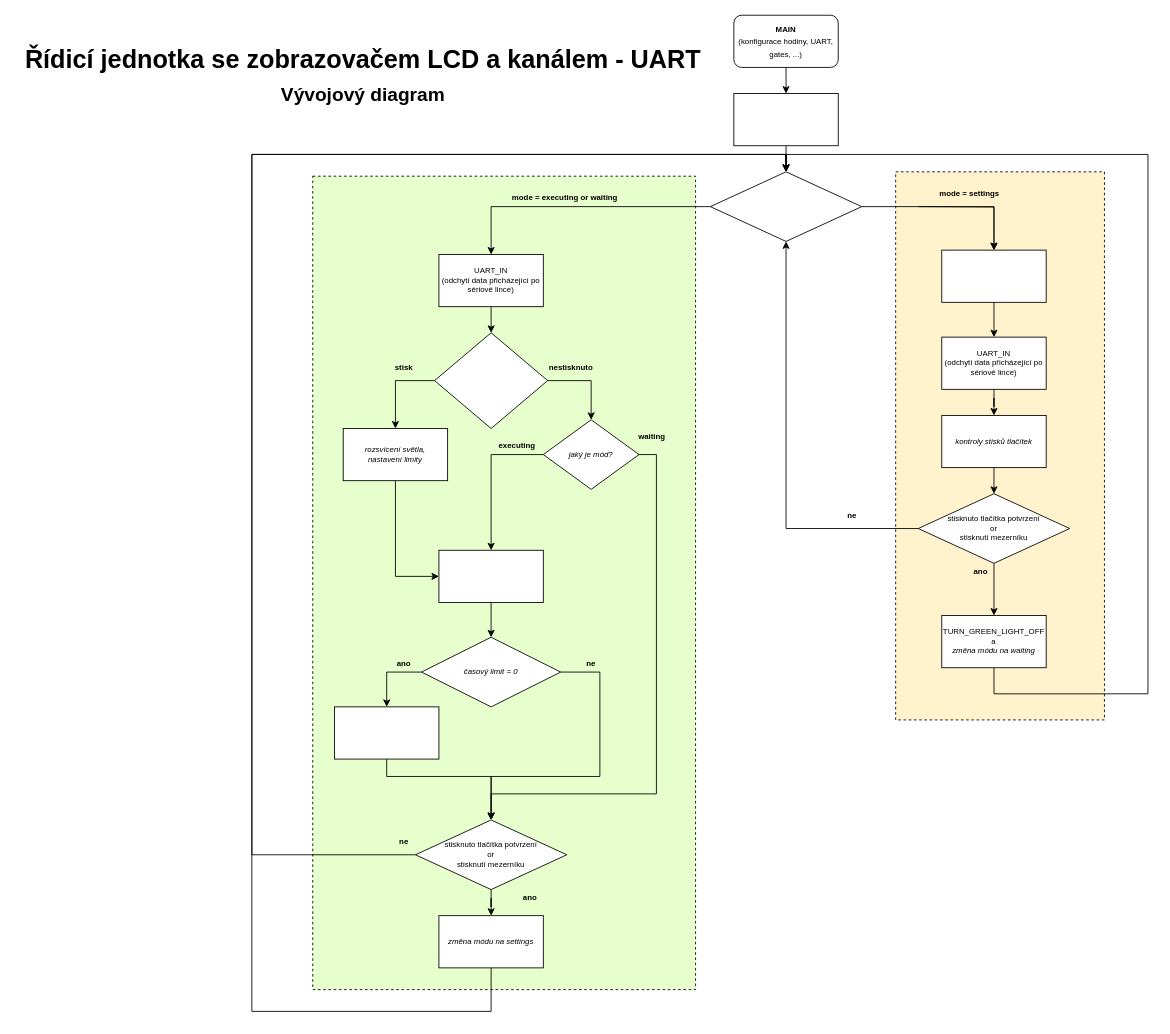
Image size: 1170x1034. Some labels were removed from this diagram. The shapes that lost their labels are listed below. From the top down, each one's centre as x and y in pixels, then its label:
At pixel 785 119: "SET_DISPLAY (inicializace displeje)".
At pixel 785 206: "RECOGNIZE_MODE".
At pixel 993 275: "TURN_GREEN_LIGHT_ON".
At pixel 491 380: "CHECK_BUTTON (kontrola stisku tlačítka pro spuštění odpočtu a rozsvícení světla)".
At pixel 490 575: "CHECK_EXEC (provádí odčítání času)".
At pixel 386 732: "vypni světlo a změň mód".
